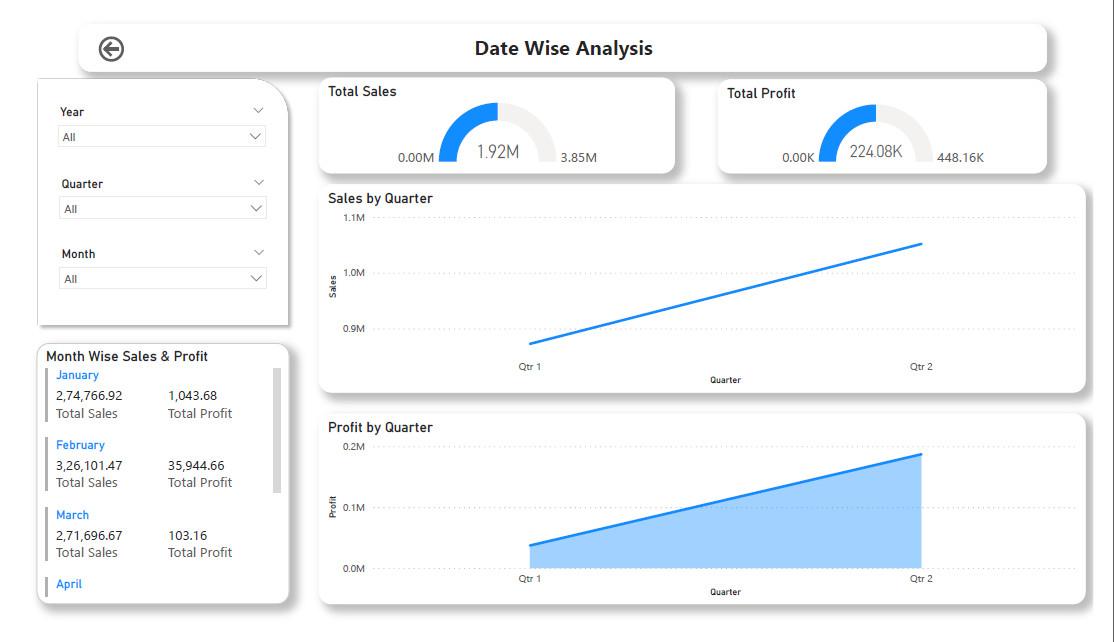

The dashboard page shown, as its layout file describes it:
{"tool":"powerbi","page":{"name":"Date Wise Analysis","canvas":[1280,720],"ordinal":4},"visuals":[{"type":"textbox","box":[72.4,8.4,1153,56.7],"z":0},{"type":"gauge","fields":{"Y":["Order Details.Total Sales"]},"box":[358.2,72.4,423.3,113.4],"z":1000},{"type":"gauge","fields":{"Y":["Order Details.Total Profit"]},"box":[833.4,73.6,392,112.2],"z":2000},{"type":"lineChart","fields":{"Y":["Sum(Order Details.Sales)"],"Category":["Order Details.Order Date.Variation.Date Hierarchy.Quarter","Order Details.Order Date.Variation.Date Hierarchy.Month","Order Details.Order Date.Variation.Date Hierarchy.Day"]},"box":[358.2,199,913,248.4],"z":3000},{"type":"stackedAreaChart","fields":{"Category":["Order Details.Order Date.Variation.Date Hierarchy.Quarter","Order Details.Order Date.Variation.Date Hierarchy.Month","Order Details.Order Date.Variation.Date Hierarchy.Day"],"Y":["Sum(Order Details.Profit)"]},"box":[358.2,471.6,913,227.9],"z":4000},{"type":"multiRowCard","title":"Month Wise Sales & Profit","fields":{"Values":["Order Details.Order Date.Variation.Date Hierarchy.Month","Sum(Order Details.Sales)","Sum(Order Details.Profit)"]},"box":[21.7,388.3,301.5,311.2],"z":5000},{"type":"actionButton","box":[90.6,17.9,42.6,39.8],"z":6000},{"type":"shape","box":[14.5,65.1,316,311.2],"z":7000},{"type":"slicer","fields":{"Values":["Order Details.Order Date.Variation.Date Hierarchy.Year"]},"box":[37.4,100.1,267.7,84.4],"z":8000},{"type":"slicer","fields":{"Values":["Order Details.Order Date.Variation.Date Hierarchy.Quarter"]},"box":[38.6,184.5,267.7,84.4],"z":9000},{"type":"slicer","fields":{"Values":["Order Details.Order Date.Variation.Date Hierarchy.Month"]},"box":[38.6,268.9,267.7,84.4],"z":10000}]}

Visuals, with their boxes in screenshot pixels (x1, y1, x2, y2), scaled from the page's 1280x720 canvas onto the 1114x642 screenshot:
textbox: detection(63, 7, 1066, 58)
gauge - Order Details.Total Sales: detection(312, 65, 680, 166)
gauge - Order Details.Total Profit: detection(725, 66, 1066, 166)
lineChart - Sum(Order Details.Sales) x Order Details.Order Date.Variation.Date Hierarchy.Quarter: detection(312, 177, 1106, 399)
stackedAreaChart - Order Details.Order Date.Variation.Date Hierarchy.Quarter x Order Details.Order Date.Variation.Date Hierarchy.Month: detection(312, 421, 1106, 624)
"Month Wise Sales & Profit" multiRowCard: detection(19, 346, 281, 624)
actionButton: detection(79, 16, 116, 51)
shape: detection(13, 58, 288, 336)
slicer - Order Details.Order Date.Variation.Date Hierarchy.Year: detection(33, 89, 266, 165)
slicer - Order Details.Order Date.Variation.Date Hierarchy.Quarter: detection(34, 165, 267, 240)
slicer - Order Details.Order Date.Variation.Date Hierarchy.Month: detection(34, 240, 267, 315)
